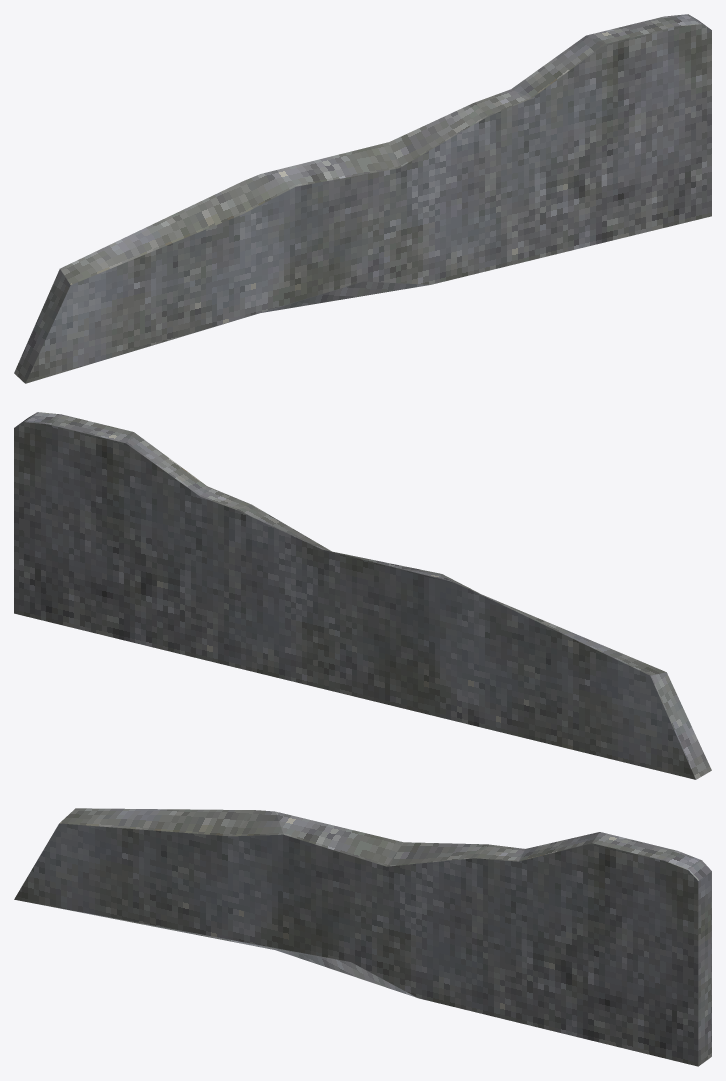
File: plackard_slab_broken.glb
3 renders of one model, top to bottom at view 1: azimuth 30°, elevation 25°; view 2: azimuth 150°, elevation 25°; view 3: azimuth 330°, elevation 25°, orthographic.
Visible parts, largest first — view 1: plackard_slab_broken; view 2: plackard_slab_broken; view 3: plackard_slab_broken.
Boxes of the visible parts, left/top/right/bottom form: plackard_slab_broken: left=14, top=14, right=711, bottom=383; plackard_slab_broken: left=14, top=412, right=711, bottom=779; plackard_slab_broken: left=14, top=808, right=711, bottom=1066.
Bounding box in the file's own units: 3.63 × 1 × 0.125.
Materials: 1 (1 with a texture image).
